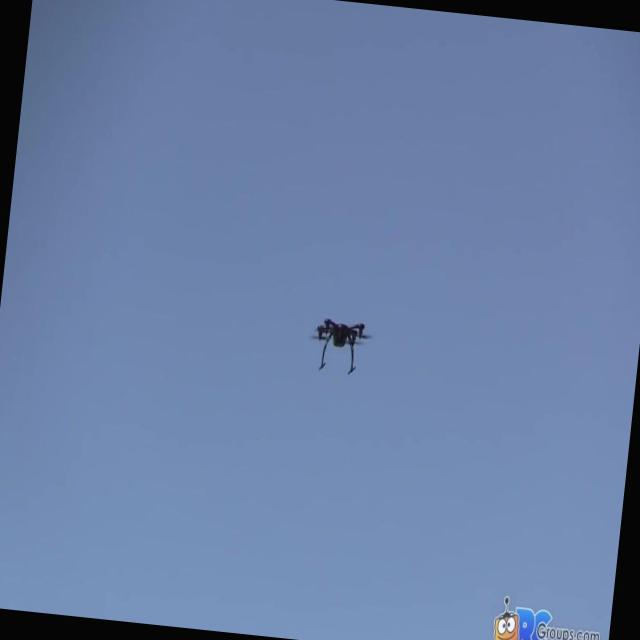drone: (311, 314, 368, 378)
